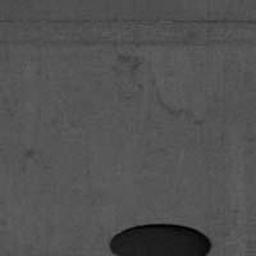Punching: (108, 224, 214, 256)
